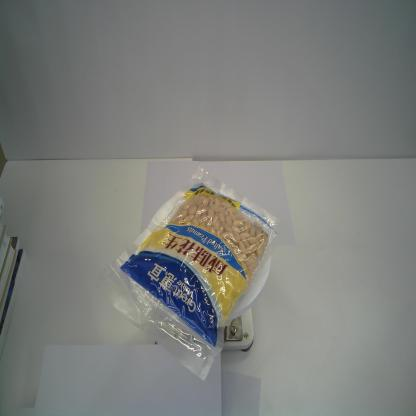Dried Fruit: (99, 170, 283, 384)
